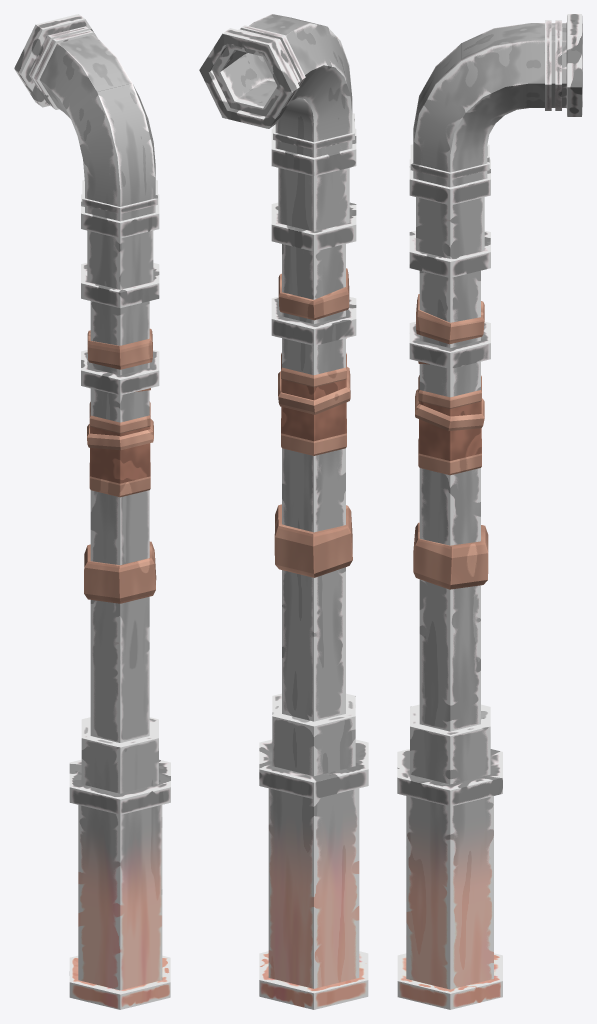
File: pipe.glb
3 views of the same model, side by side, from view 1: azimuth 30°, elevation 25°; view 2: azimuth 150°, elevation 25°; view 3: azimuth 270°, elevation 25° (orthographic). The views are drawn at different scales.
Visible parts, largest first — view 1: Cylinder.003, Cylinder.005, Cylinder.004, Cylinder.006; view 2: Cylinder.003, Cylinder.005, Cylinder.004, Cylinder.006; view 3: Cylinder.003, Cylinder.005, Cylinder.004, Cylinder.006.
Boxes of the visible parts, bbox=[...] form: Cylinder.003: bbox=[29, 35, 162, 990]; Cylinder.005: bbox=[14, 14, 170, 1009]; Cylinder.004: bbox=[84, 328, 156, 603]; Cylinder.006: bbox=[90, 426, 150, 483]; Cylinder.003: bbox=[212, 14, 359, 988]; Cylinder.005: bbox=[199, 25, 368, 1009]; Cylinder.004: bbox=[274, 268, 352, 577]; Cylinder.006: bbox=[281, 379, 346, 441]; Cylinder.003: bbox=[406, 23, 566, 989]; Cylinder.005: bbox=[397, 14, 582, 1009]; Cylinder.004: bbox=[413, 294, 488, 589]; Cylinder.006: bbox=[419, 401, 481, 460].
Bounding box in the file's own units: 0.517 × 4.49 × 0.7842.
4 materials, 4 textured.
